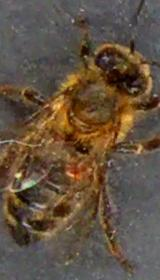varroa_mite: (60, 165, 86, 185)
